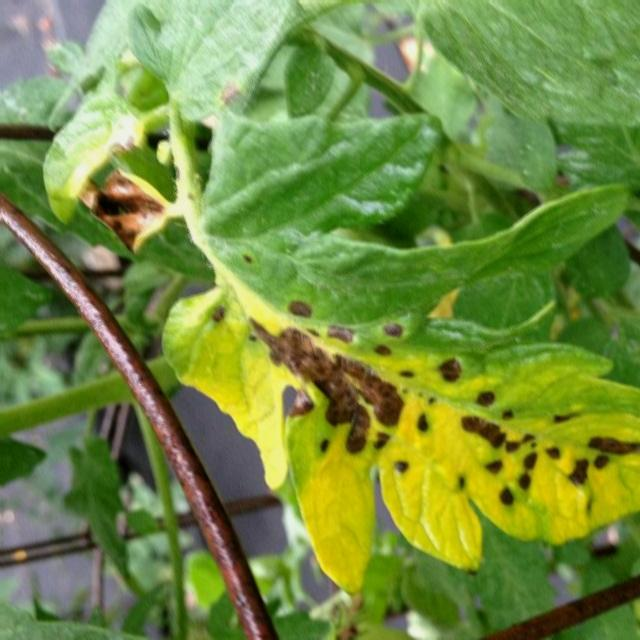Tomato leaf bacterial spot: (144, 255, 640, 596)
